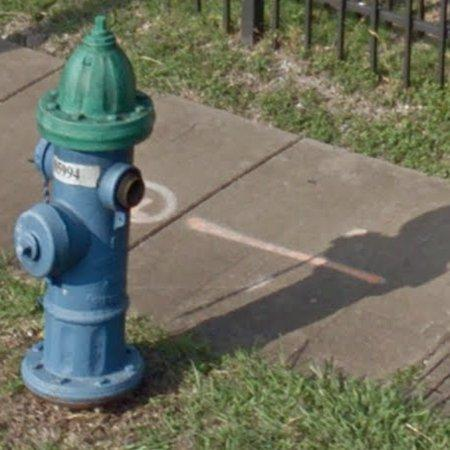a fire hydrant: (14, 16, 155, 405)
